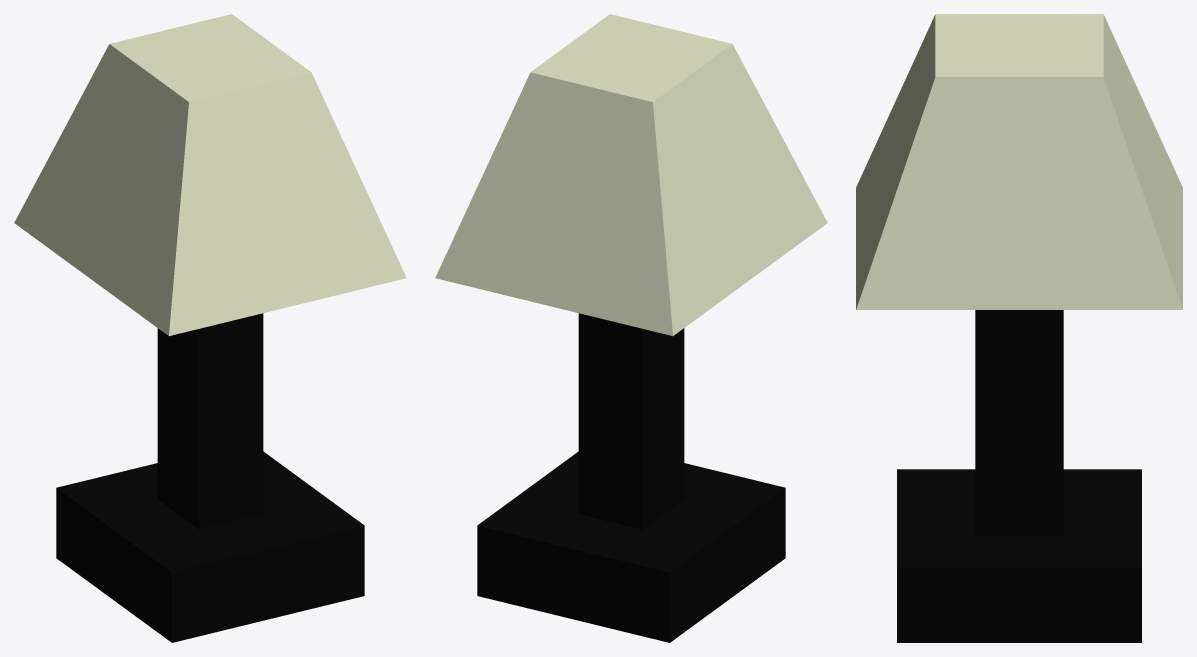
The model's file is Lamp.fbx.
3 views of the same model, side by side, from view 1: azimuth 30°, elevation 25°; view 2: azimuth 150°, elevation 25°; view 3: azimuth 270°, elevation 25° (orthographic). The views are drawn at different scales.
Parts seen in each view (by area): view 1: Lamp; view 2: Lamp; view 3: Lamp.
Part boxes in pixels (x1,y1,x2,y2): Lamp: [14, 14, 406, 642]; Lamp: [435, 14, 827, 642]; Lamp: [856, 14, 1182, 642].
Bounding box in the file's own units: 15.69 × 32.69 × 17.67.
